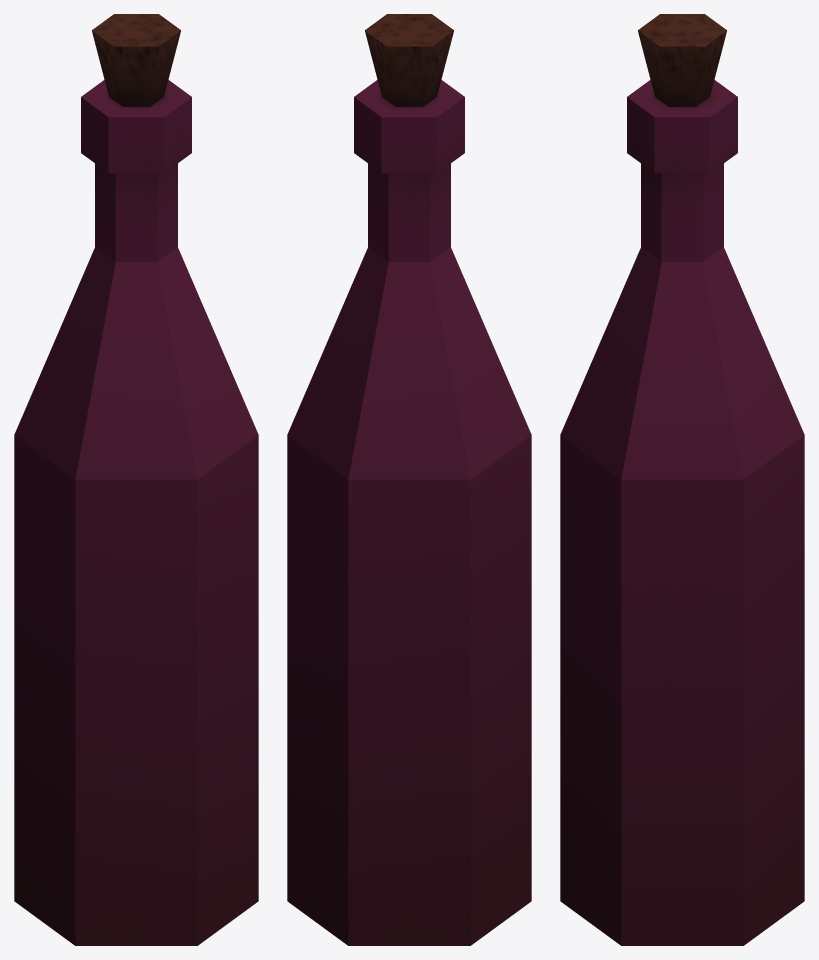
The model's file is bottle.obj.
The picture shows the model from 3 angles, left to right: view 1: azimuth 30°, elevation 25°; view 2: azimuth 150°, elevation 25°; view 3: azimuth 270°, elevation 25°; orthographic projection.
Parts seen in each view (by area): view 1: Botella_Circle.007; view 2: Botella_Circle.007; view 3: Botella_Circle.007.
Part boxes in pixels (bbox=[...]): Botella_Circle.007: bbox=[14, 14, 258, 945]; Botella_Circle.007: bbox=[287, 14, 531, 945]; Botella_Circle.007: bbox=[560, 14, 804, 945].
Bounding box in the file's own units: 0.1187 × 0.5387 × 0.1371.
